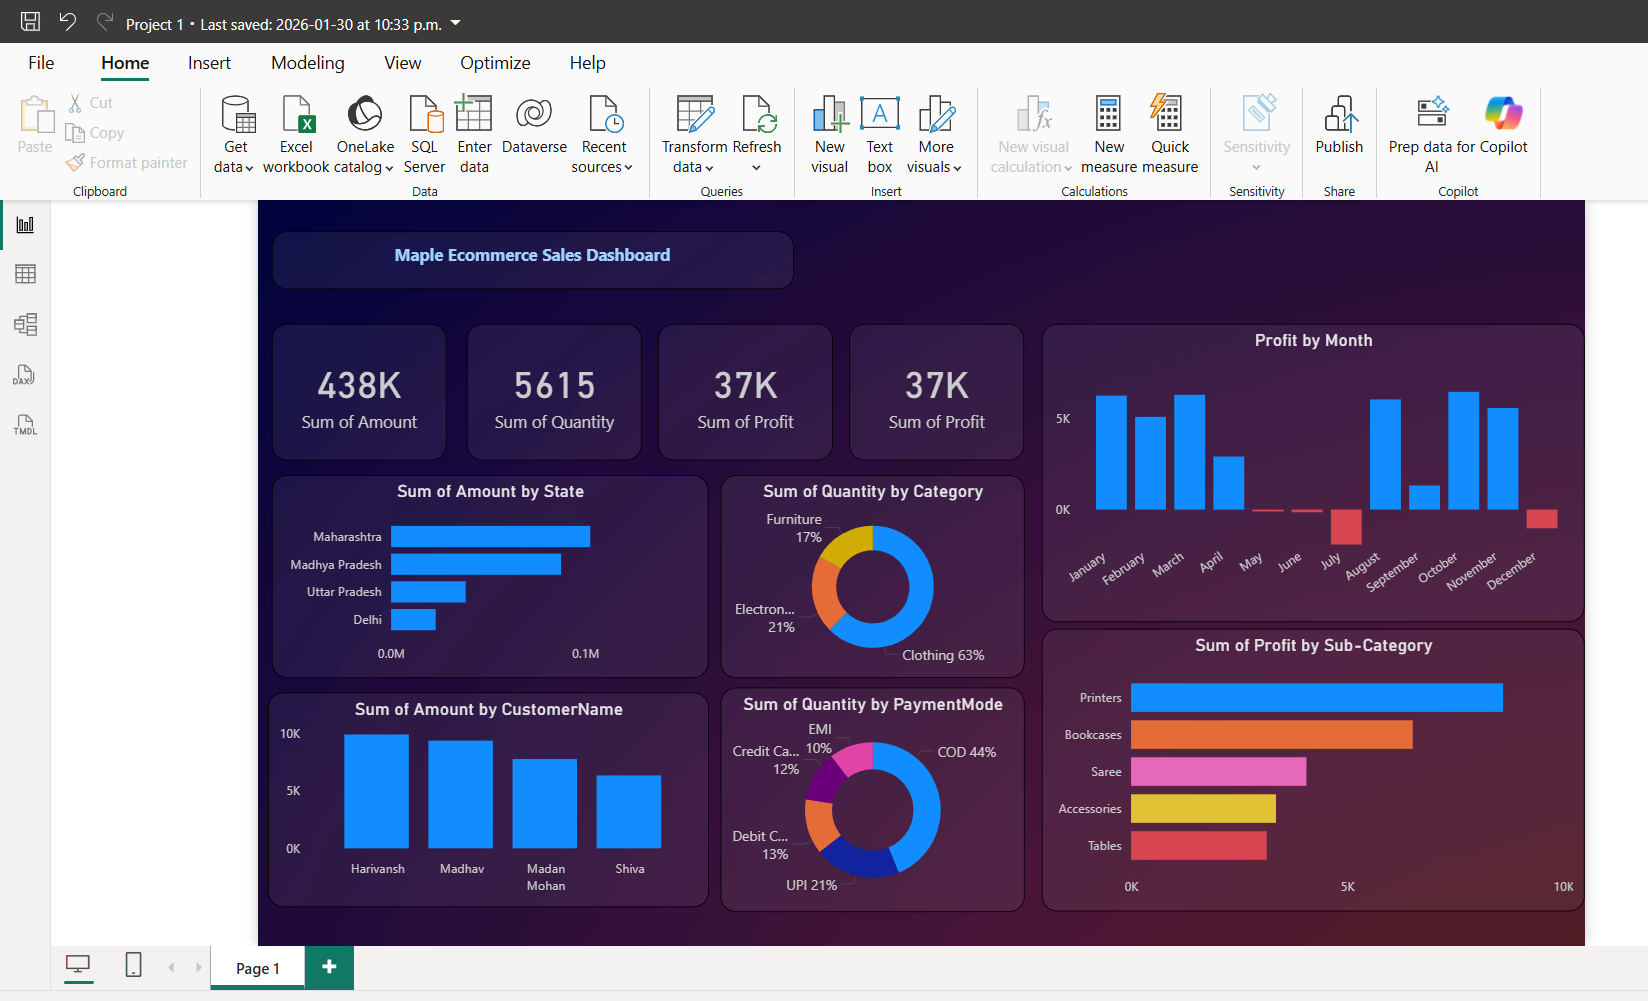

What the dashboard file says about the page in this screenshot:
{"tool":"powerbi","page":{"name":"Page 1","canvas":[1280,720],"ordinal":0},"visuals":[{"type":"textbox","box":[13.7,30.2,503.6,56.3],"z":0},{"type":"columnChart","title":"Profit by Month","fields":{"Y":["Details.Profit"],"Category":["Orders.Order Date.Variation.Date Hierarchy.Month"]},"box":[756.1,119.4,524.2,288.2],"z":1000},{"type":"barChart","fields":{"Category":["Details.Sub-Category"],"Y":["Details.Profit"]},"box":[756.1,414.4,524.2,273.1],"z":2000},{"type":"donutChart","fields":{"Category":["Details.Category"],"Y":["Details.Quantity"]},"box":[446,264.8,293.7,196.2],"z":3000},{"type":"donutChart","fields":{"Y":["Details.Quantity"],"Category":["Details.PaymentMode"]},"box":[446,470.7,293.7,216.8],"z":4000},{"type":"card","fields":{"Values":["Details.Amount"]},"box":[13.7,119.4,168.8,131.7],"z":5000},{"type":"card","fields":{"Values":["Details.Quantity"]},"box":[201.7,119.4,168.8,131.7],"z":6000},{"type":"card","fields":{"Values":["Details.Profit"]},"box":[385.6,119.4,168.8,131.7],"z":7000},{"type":"card","fields":{"Values":["Details.Profit"]},"box":[570.8,119.4,168.8,131.7],"z":8000},{"type":"barChart","fields":{"Category":["Orders.State"],"Y":["Details.Amount"]},"box":[13.7,264.8,421.3,196.2],"z":9000},{"type":"columnChart","fields":{"Category":["Orders.CustomerName"],"Y":["Details.Amount"]},"box":[9.6,474.8,425.4,207.2],"z":10000}]}

Visuals, with their boxes on the page's 1280x720 design canvas (x1, y1, x2, y2). These are canvas units, not pixel positions in the 1648x1001 screenshot, which may show the page scaled, cropped or inside an application window:
textbox: box(14, 30, 517, 86)
"Profit by Month" columnChart: box(756, 119, 1280, 408)
barChart - Details.Sub-Category x Details.Profit: box(756, 414, 1280, 688)
donutChart - Details.Category x Details.Quantity: box(446, 265, 740, 461)
donutChart - Details.Quantity x Details.PaymentMode: box(446, 471, 740, 688)
card - Details.Amount: box(14, 119, 182, 251)
card - Details.Quantity: box(202, 119, 370, 251)
card - Details.Profit: box(386, 119, 554, 251)
card - Details.Profit: box(571, 119, 740, 251)
barChart - Orders.State x Details.Amount: box(14, 265, 435, 461)
columnChart - Orders.CustomerName x Details.Amount: box(10, 475, 435, 682)
